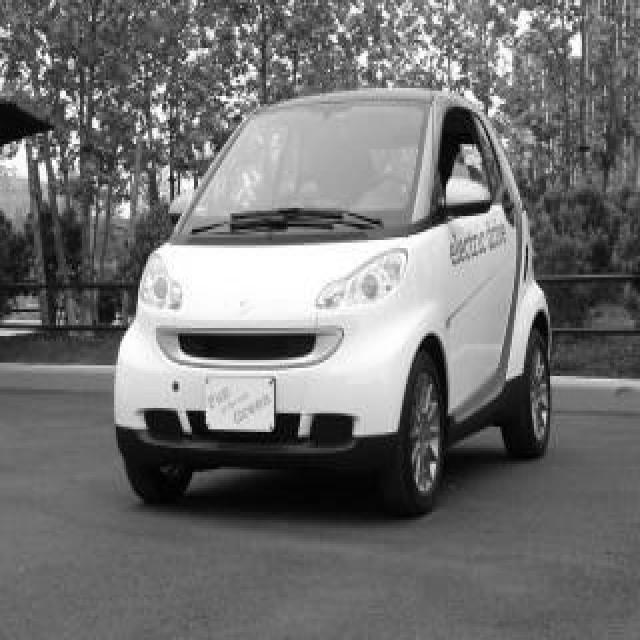Car: (114, 92, 550, 514)
